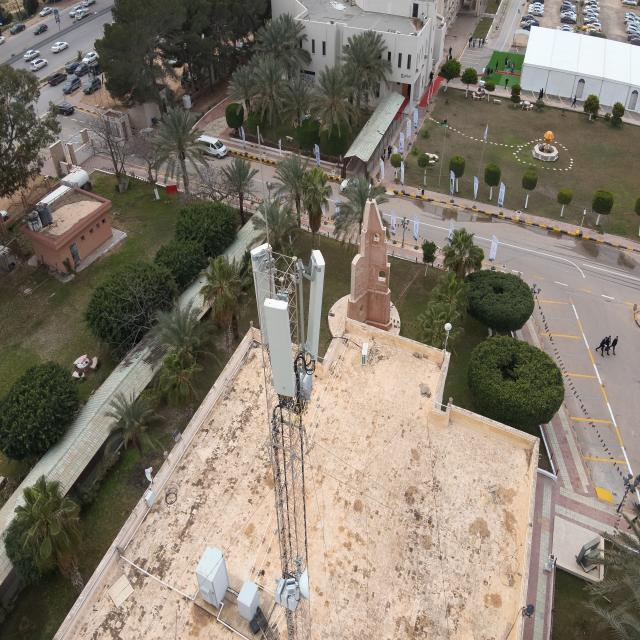antenna: (263, 298, 297, 398), (250, 242, 276, 349), (303, 248, 326, 361)
lighnig-rad: (255, 125, 271, 253)
microware-dish: (287, 566, 313, 599)
power-box: (274, 576, 299, 612)
radio-unit: (292, 364, 313, 392)
